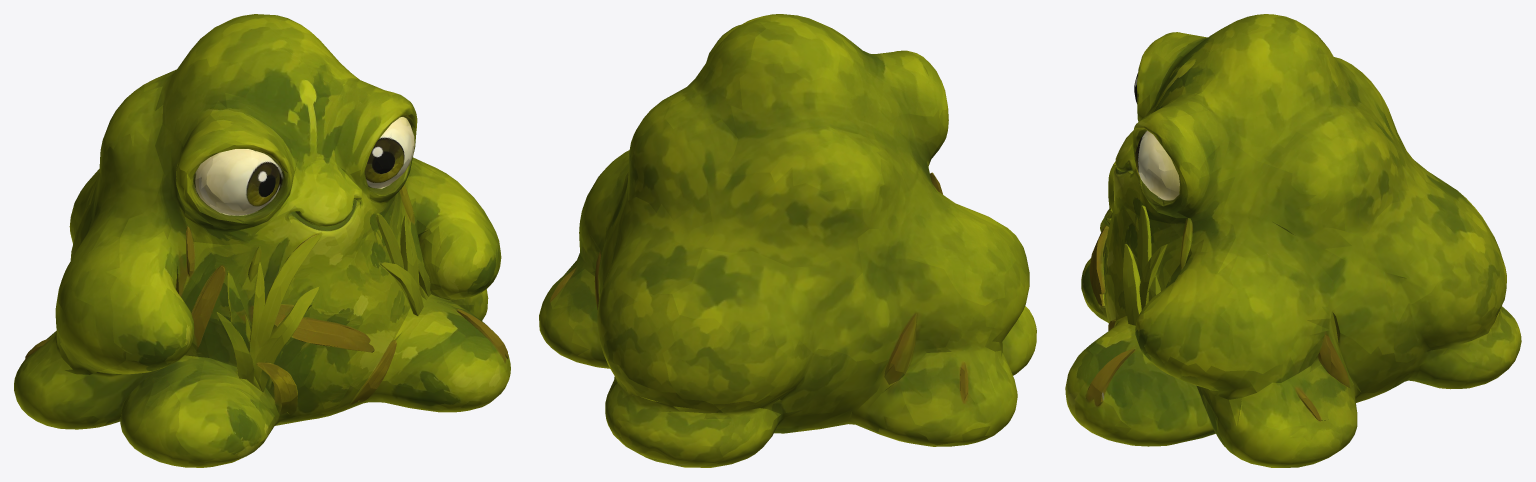
Rendered from bog-slime.hq.glb.
3 views of the same model, side by side, from view 1: azimuth 30°, elevation 25°; view 2: azimuth 150°, elevation 25°; view 3: azimuth 270°, elevation 25° (orthographic). The views are drawn at different scales.
Parts seen in each view (by area): view 1: output_unwrapped; view 2: output_unwrapped; view 3: output_unwrapped.
Boxes of the visible parts, box(x1,y1,x2,y2) form: output_unwrapped: box(14, 14, 510, 467); output_unwrapped: box(539, 14, 1036, 467); output_unwrapped: box(1065, 14, 1521, 467).
Bounding box in the file's own units: 1.9 × 1.41 × 1.69.
Materials: 1 (1 with a texture image).
